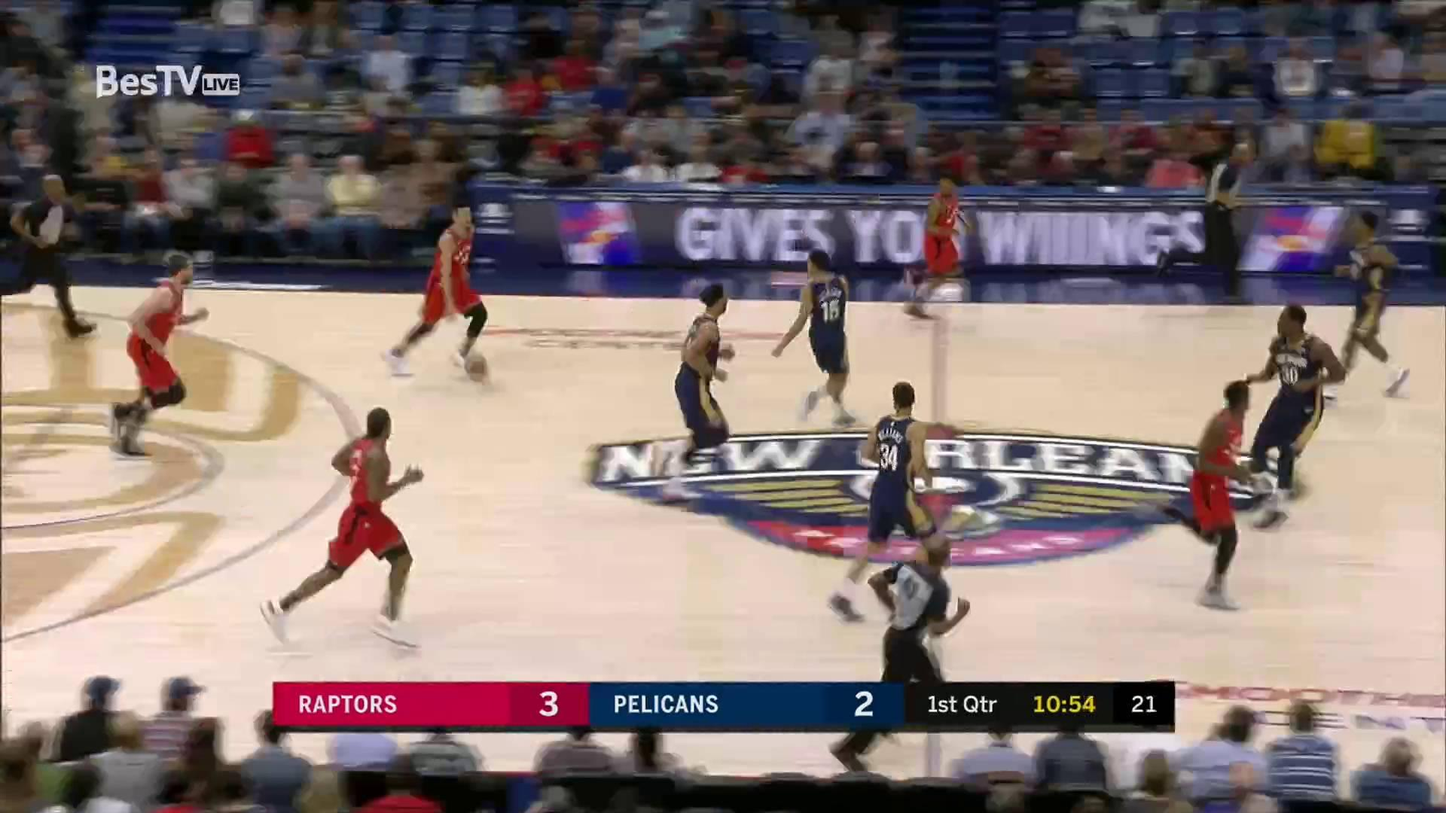basketball: (461, 352, 493, 380)
